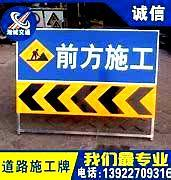sign: (15, 27, 156, 118)
